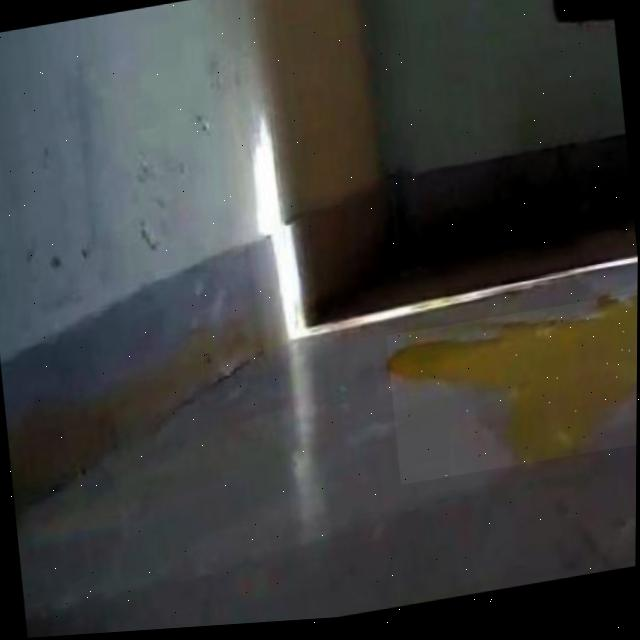spillage: (390, 305, 638, 470)
